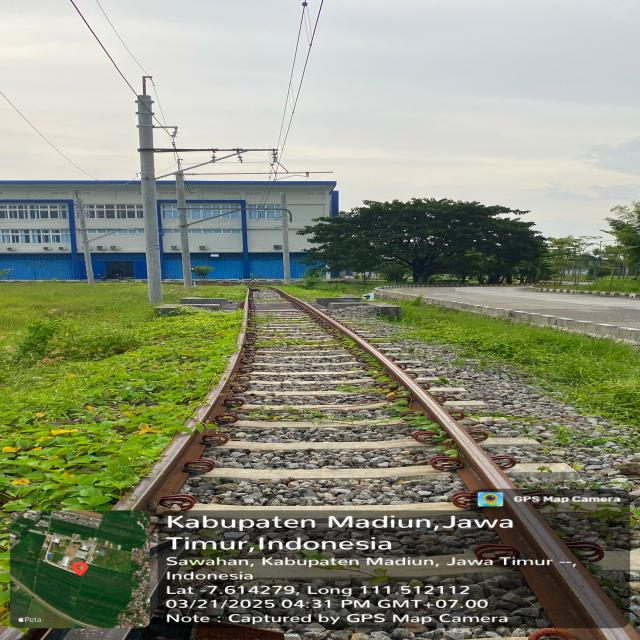rail-detection: (270, 288, 515, 491), (114, 290, 253, 510), (576, 566, 624, 625), (542, 525, 575, 561)
